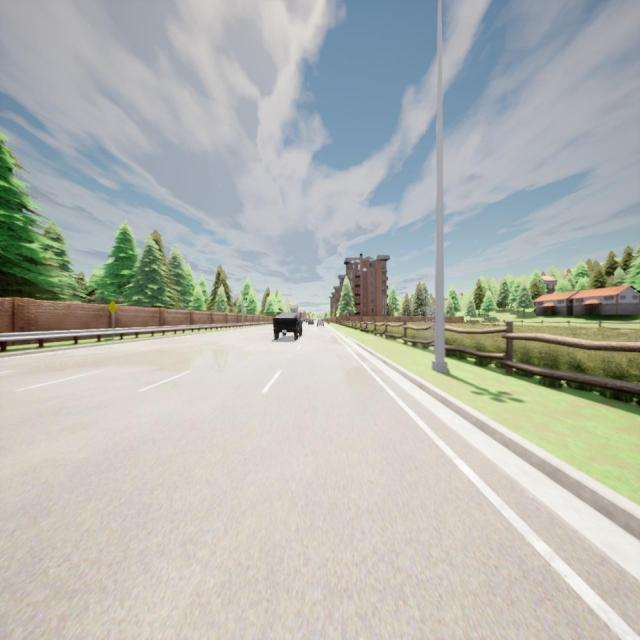Traffic_Signs: (106, 300, 119, 315)
Vehicle: (272, 312, 302, 342), (316, 318, 324, 328), (308, 318, 314, 327)
